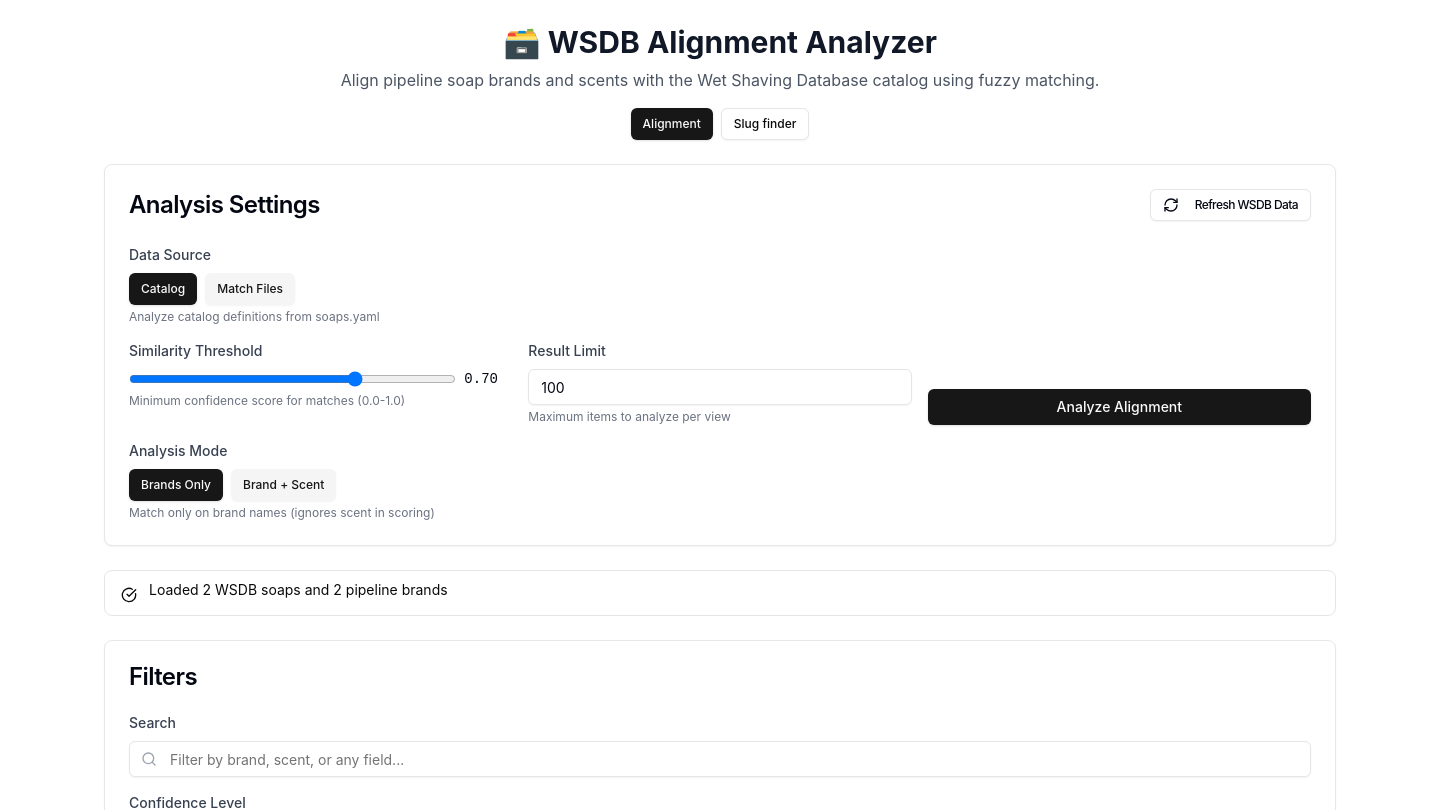
Test: WSDBAlignmentAnalyzer › Match Display › displays confidence badges with correct colors
The width and height of the screenshot is (1440, 810).
Expected: the heading "🗃️ WSDB Alignment Analyzer" is shown, 503,24 -> 937,60
Expected: the text "Loaded 2 WSDB soaps and 2 pipeline brands" is shown, 149,581 -> 448,598
Step 1. Click the button "Analyze Alignment" → (1119, 407), box 928,389 -> 1311,425
(page scrolled)
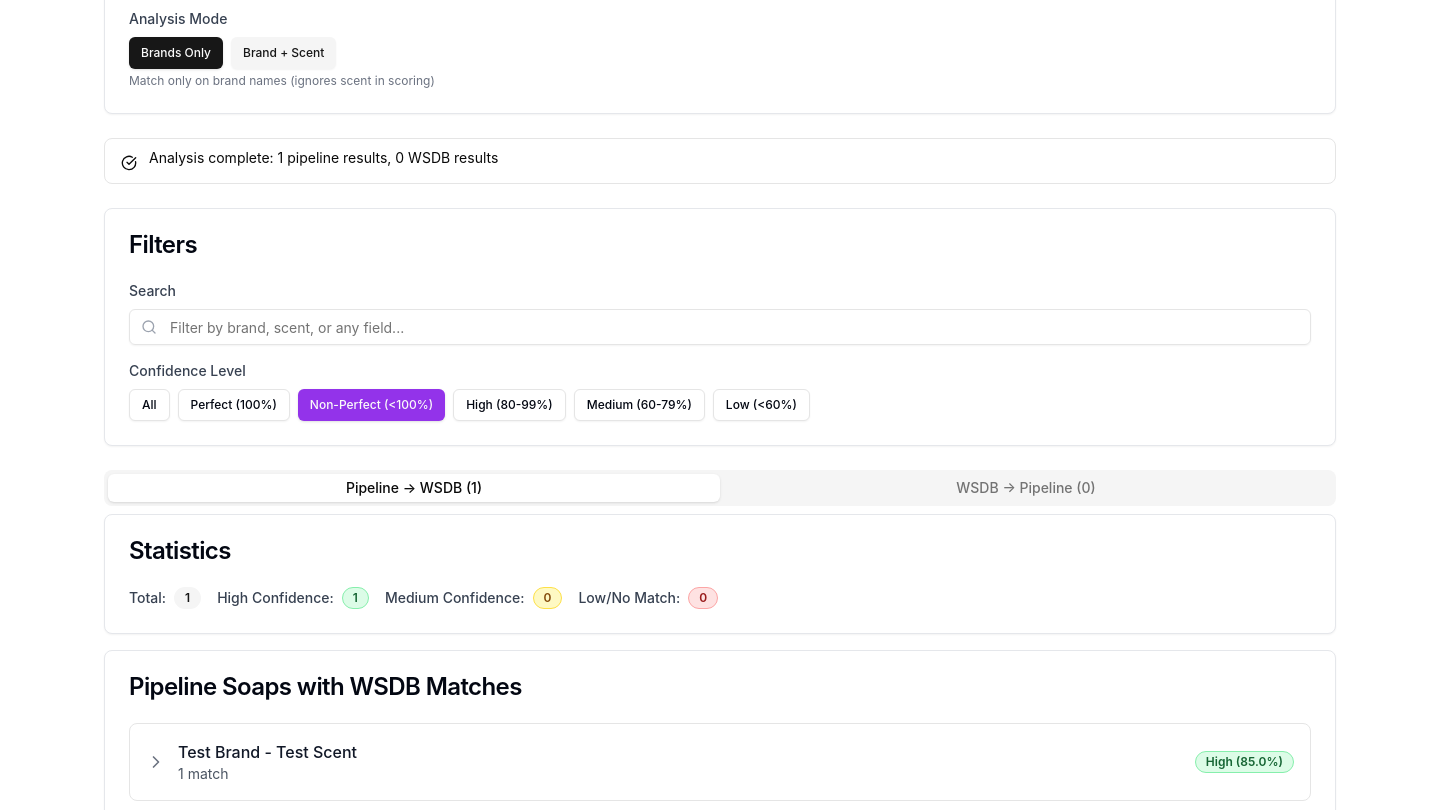
Expected: the button "High (80-99%)" is shown, 453,389 -> 566,421
Expected: the text "Analysis complete: 1 pipeline results, 0 WSDB results" is shown, 149,149 -> 498,166
